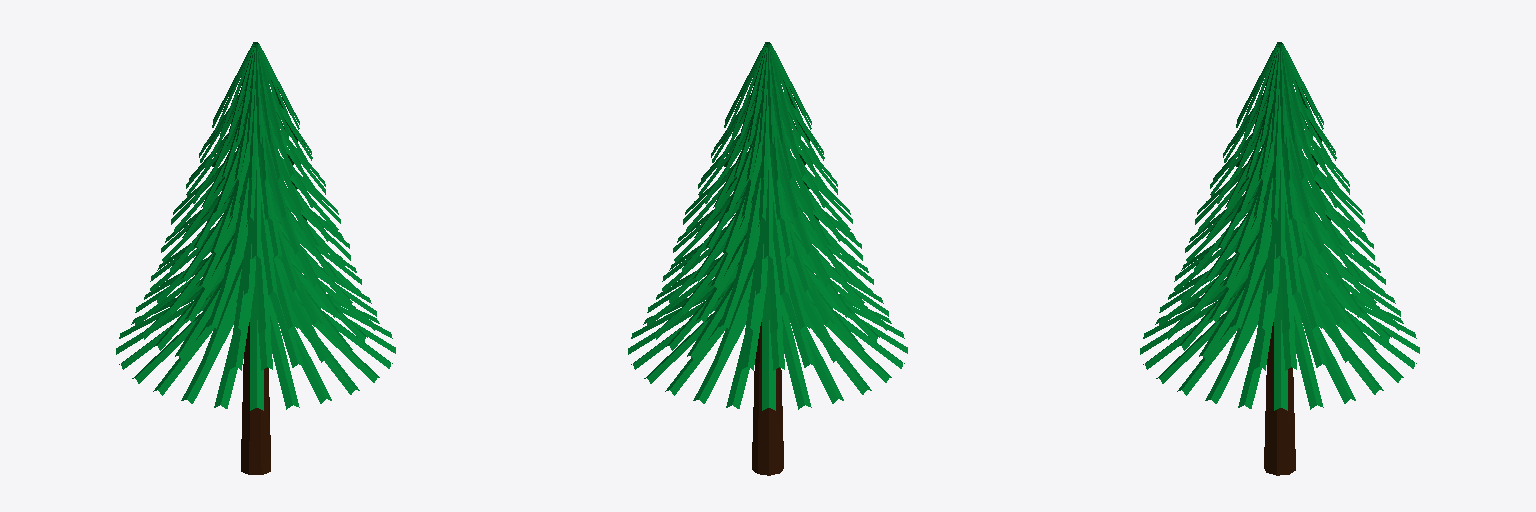
File: tree3.obj
The picture shows the model from 3 angles: view 1: azimuth 30°, elevation 25°; view 2: azimuth 150°, elevation 25°; view 3: azimuth 270°, elevation 25°; orthographic projection.
Parts seen in each view (by area): view 1: Feuilles, Tron; view 2: Feuilles, Tron; view 3: Feuilles, Tron.
Boxes of the visible parts, x1,y1,x2,y2 form: Feuilles: [116, 42, 395, 410]; Tron: [241, 322, 270, 474]; Feuilles: [628, 42, 907, 410]; Tron: [752, 322, 783, 475]; Feuilles: [1140, 42, 1419, 410]; Tron: [1264, 322, 1295, 475].
Size of the model in its own units: 50.81 by 85.28 by 50.81.